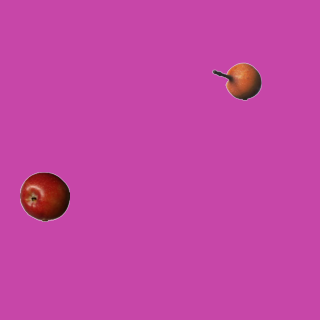Apple Braeburn: (19, 171, 69, 221)
Granadilla: (211, 56, 261, 106)
